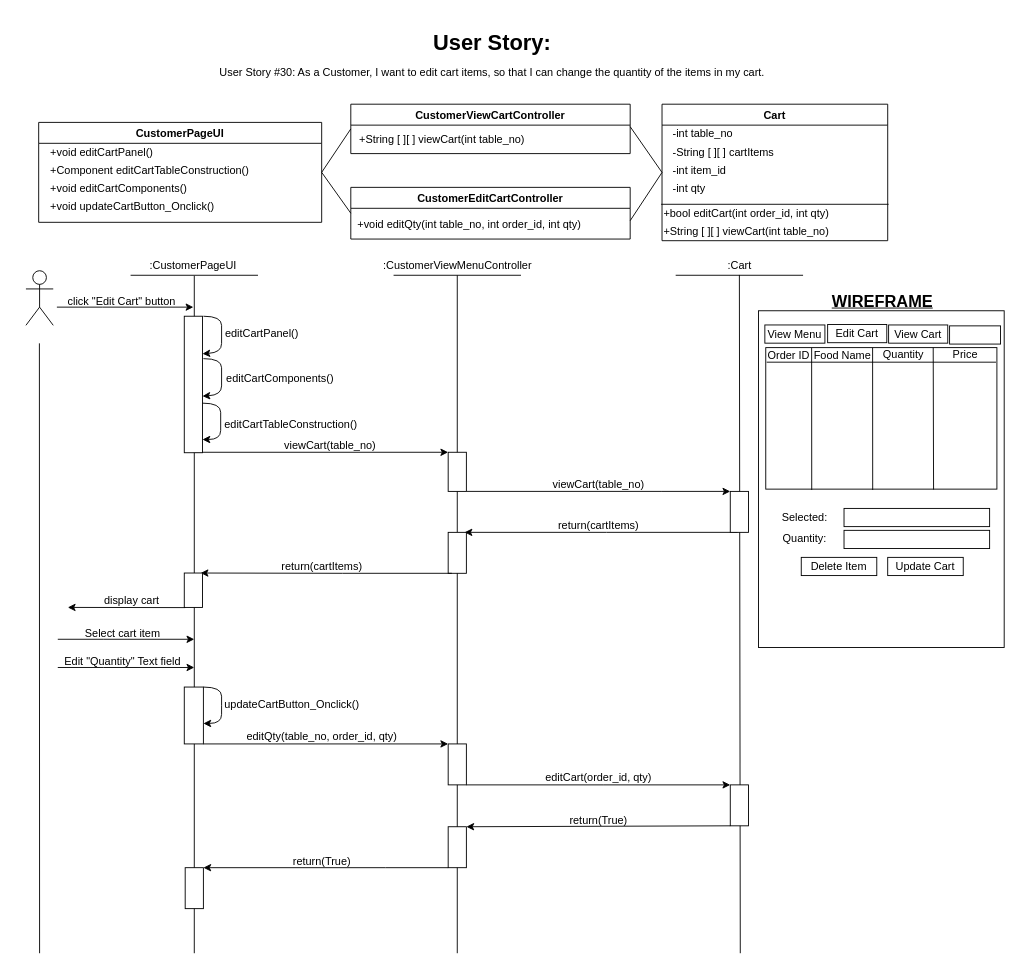
Some shapes in this 1020 by 970 pixel diagram are drawn without their labels. The centre of each missing label's shape, as x and y in pixels:
"Customer" belongs at pixel 39 297.
"Payment" belongs at pixel 975 334.
